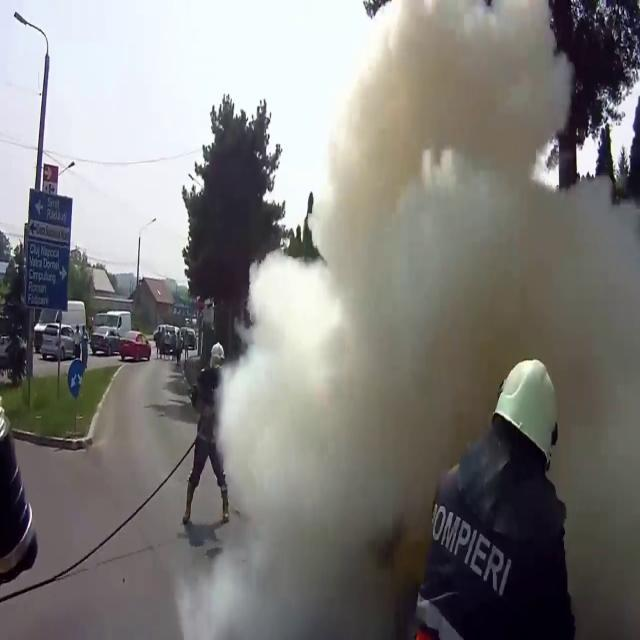Smoke: (171, 0, 636, 633)
